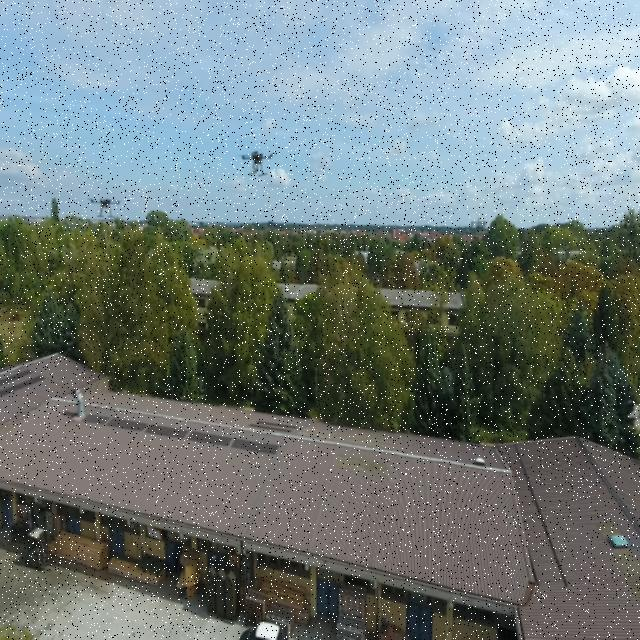UAV: (234, 144, 282, 180), (81, 194, 131, 217)
